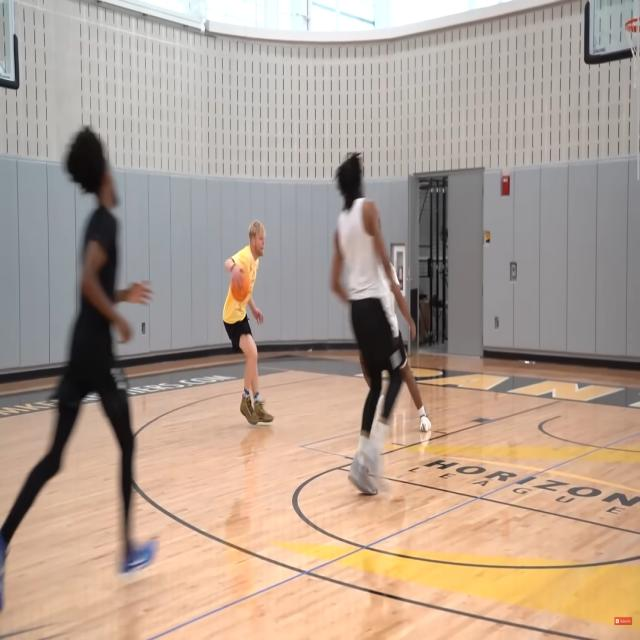Basketball: (230, 270, 249, 300)
Player: (0, 125, 154, 603), (328, 154, 416, 500), (221, 220, 278, 428)
